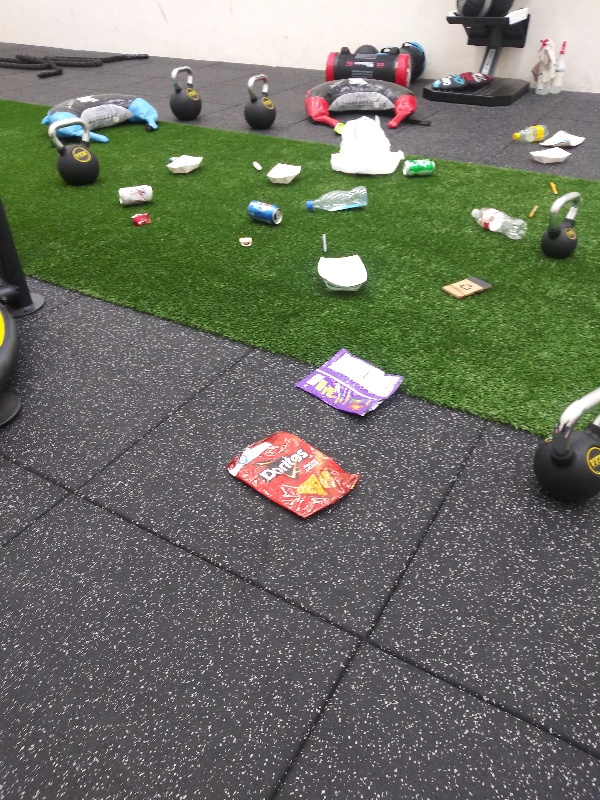bag: (224, 430, 362, 521), (291, 346, 410, 420), (535, 127, 591, 150)
bottle: (301, 183, 372, 215), (471, 205, 530, 242), (510, 123, 553, 144)
can: (243, 196, 286, 226), (115, 182, 157, 208), (400, 157, 439, 181)
plate: (315, 252, 371, 295), (263, 161, 304, 187), (528, 145, 574, 168), (162, 154, 202, 175)
